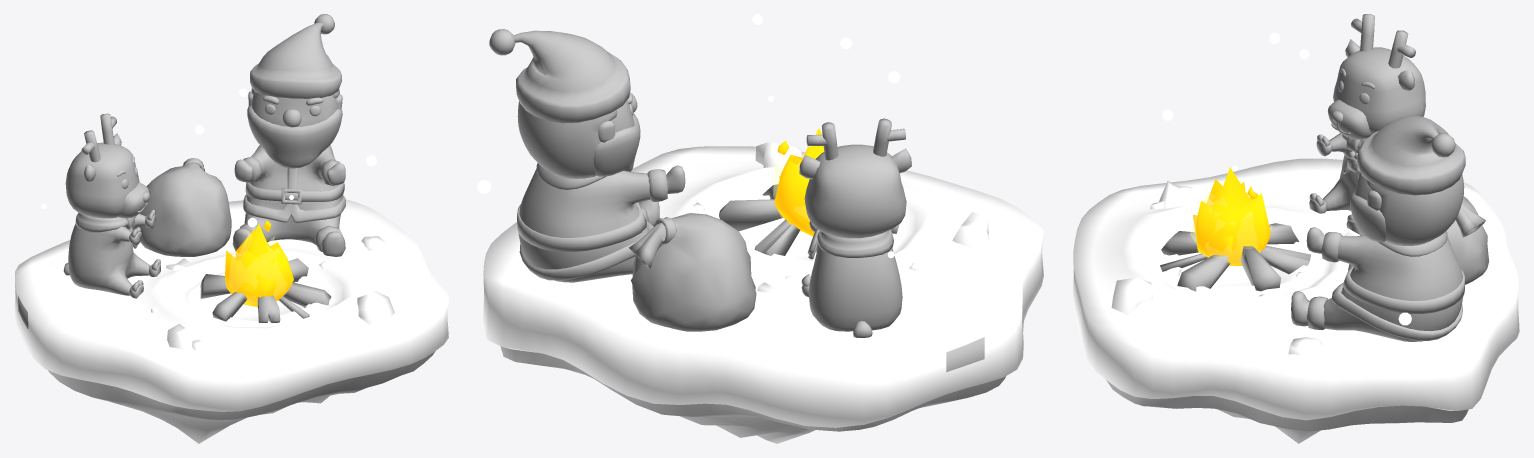
3 views of the same model, side by side, from view 1: azimuth 30°, elevation 25°; view 2: azimuth 150°, elevation 25°; view 3: azimuth 270°, elevation 25° (orthographic). The views are drawn at different scales.
Parts seen in each view (by area): view 1: Floor_6, Head.001_1, Body.001_0, Bag_8, Bonfire_7, Body.000_3, Head.000_4; view 2: Floor_6, Head.001_1, Body.001_0, Bag_8, Head.000_4, Body.000_3, Bonfire_7, Snow_12; view 3: Floor_6, Body.001_0, Head.001_1, Bonfire_7, Head.000_4, Body.000_3, Bag_8, Snow_12.
Boxes of the visible parts, x1=… form: Floor_6: x1=14, y1=199, x2=448, y2=443; Head.001_1: x1=247, y1=14, x2=342, y2=168; Body.001_0: x1=232, y1=145, x2=345, y2=256; Bag_8: x1=133, y1=158, x2=231, y2=256; Bonfire_7: x1=200, y1=220, x2=331, y2=322; Body.000_3: x1=63, y1=210, x2=160, y2=298; Head.000_4: x1=65, y1=113, x2=149, y2=218; Floor_6: x1=482, y1=142, x2=1043, y2=443; Head.001_1: x1=489, y1=29, x2=640, y2=178; Body.001_0: x1=516, y1=163, x2=685, y2=282; Bag_8: x1=629, y1=213, x2=756, y2=331; Head.000_4: x1=799, y1=118, x2=911, y2=238; Body.000_3: x1=801, y1=221, x2=902, y2=337; Bonfire_7: x1=719, y1=128, x2=899, y2=255; Snow_12: x1=477, y1=14, x2=900, y2=258; Floor_6: x1=1072, y1=158, x2=1519, y2=443; Body.001_0: x1=1291, y1=227, x2=1464, y2=341; Head.001_1: x1=1350, y1=116, x2=1465, y2=245; Bonfire_7: x1=1160, y1=167, x2=1310, y2=291; Head.000_4: x1=1327, y1=14, x2=1425, y2=139; Body.000_3: x1=1309, y1=133, x2=1366, y2=233; Bag_8: x1=1446, y1=196, x2=1489, y2=284; Snow_12: x1=1162, y1=32, x2=1411, y2=325.
Size of the model in its own units: 3.18 by 2.67 by 2.78.
